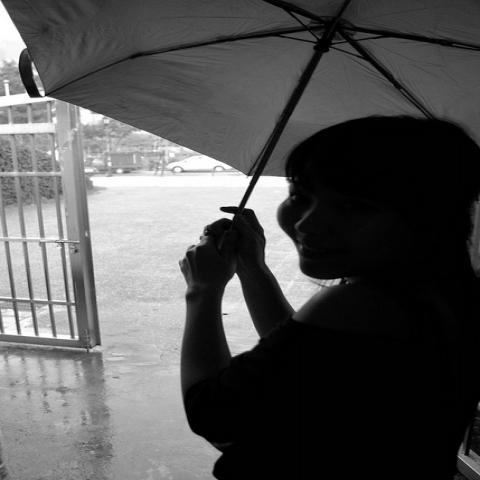car: (166, 155, 236, 173), (84, 157, 141, 173), (84, 166, 102, 177)
